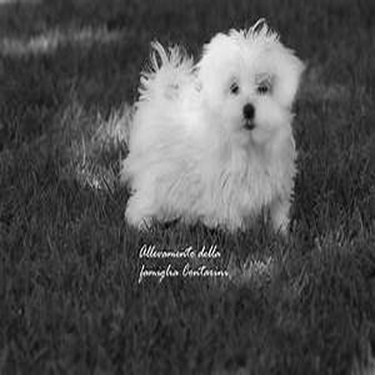dog: (30, 18, 309, 249)
